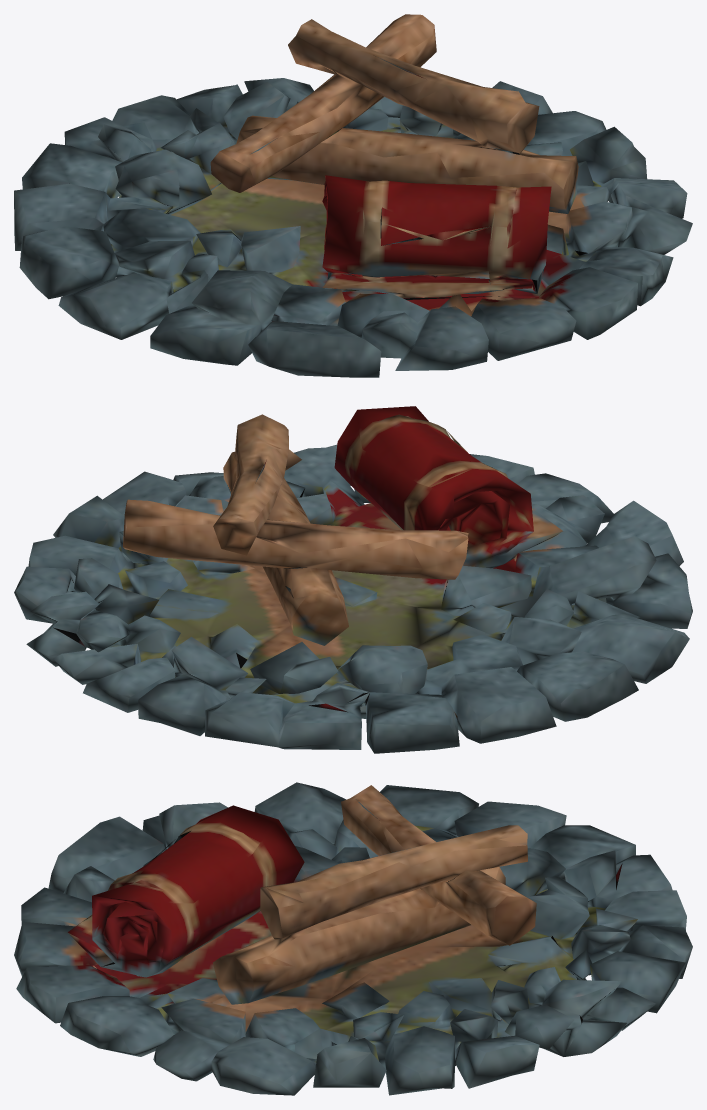
The model's file is camp.glb.
The picture shows the model from 3 angles, top to bottom: view 1: azimuth 30°, elevation 25°; view 2: azimuth 150°, elevation 25°; view 3: azimuth 270°, elevation 25°; orthographic projection.
Visible parts, largest first — view 1: Mesh_0.001; view 2: Mesh_0.001; view 3: Mesh_0.001.
Part boxes in pixels (x1=…): Mesh_0.001: x1=14, y1=14, x2=692, y2=377; Mesh_0.001: x1=14, y1=406, x2=692, y2=753; Mesh_0.001: x1=14, y1=782, x2=692, y2=1095.
Size of the model in its own units: 1.9 by 0.4535 by 1.91.
1 material, 1 textured.
